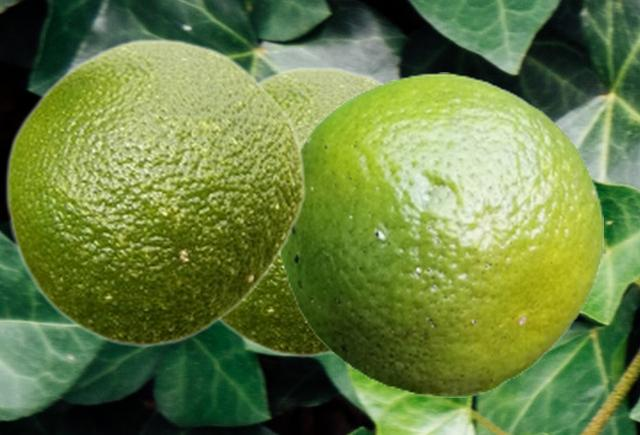calamansi: (277, 72, 602, 396), (4, 37, 305, 348), (219, 65, 386, 358)
